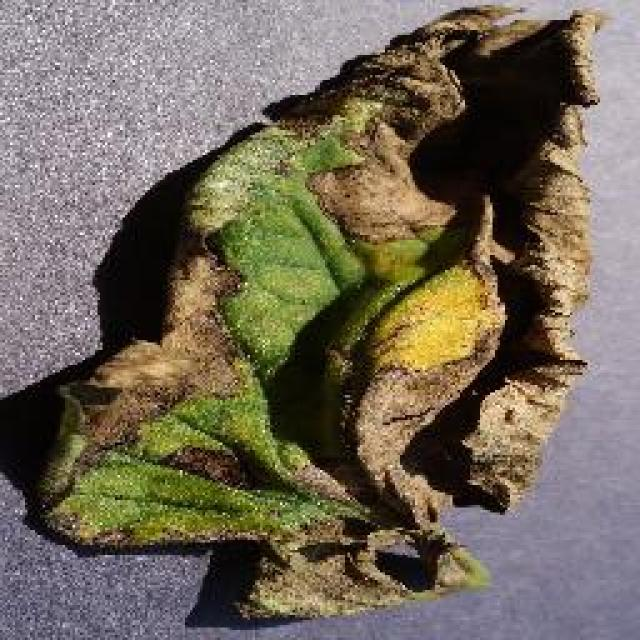Tomato Late Blight: (70, 11, 640, 640)
